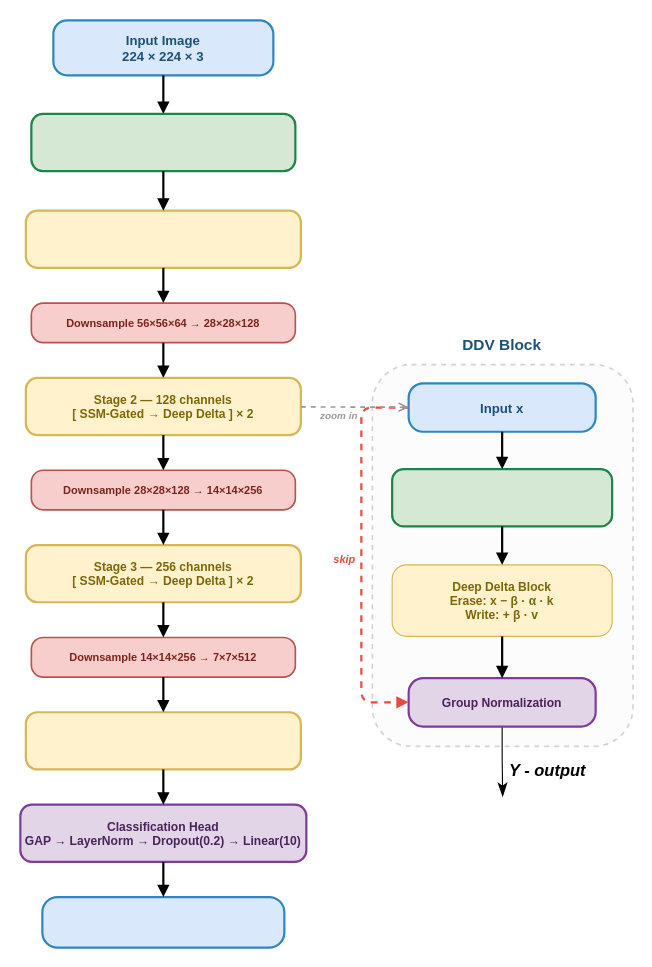
Image size: 652x967. Some labels were removed from this diagram. The shapes that lost their labels are listed below. From the top down, each one's box as (x1, y1, x2, y2) in pixels, then its label:
(30, 112, 296, 172): Patch Embedding 7×7 Conv, Stride 4 → 56×56×64
(24, 209, 301, 268): Stage 1 — 64 channels [ SSM-Gated → Deep Delta ] × 2
(391, 468, 613, 527): SSM-Gated Block DWConv(z) ⊙ σ(g)
(24, 711, 301, 770): Stage 4 — 512 channels [ SSM-Gated → Deep Delta ] × 2
(41, 895, 285, 948): Output: 10 Land-Cover Classes
